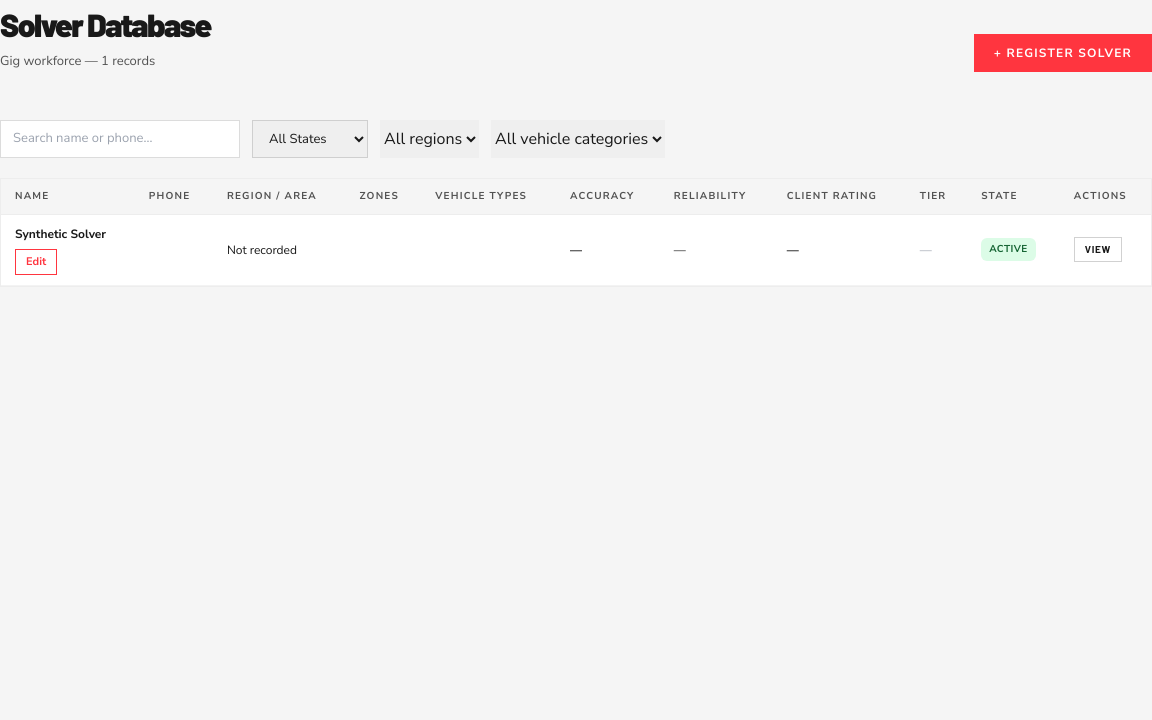
it: edit errors remain visible and HR can select Active without legacy verification
Later steps or results of the test are not shown.
Click the button with test id "edit-solver-one" at x=36, y=262, box [15,248,57,275]
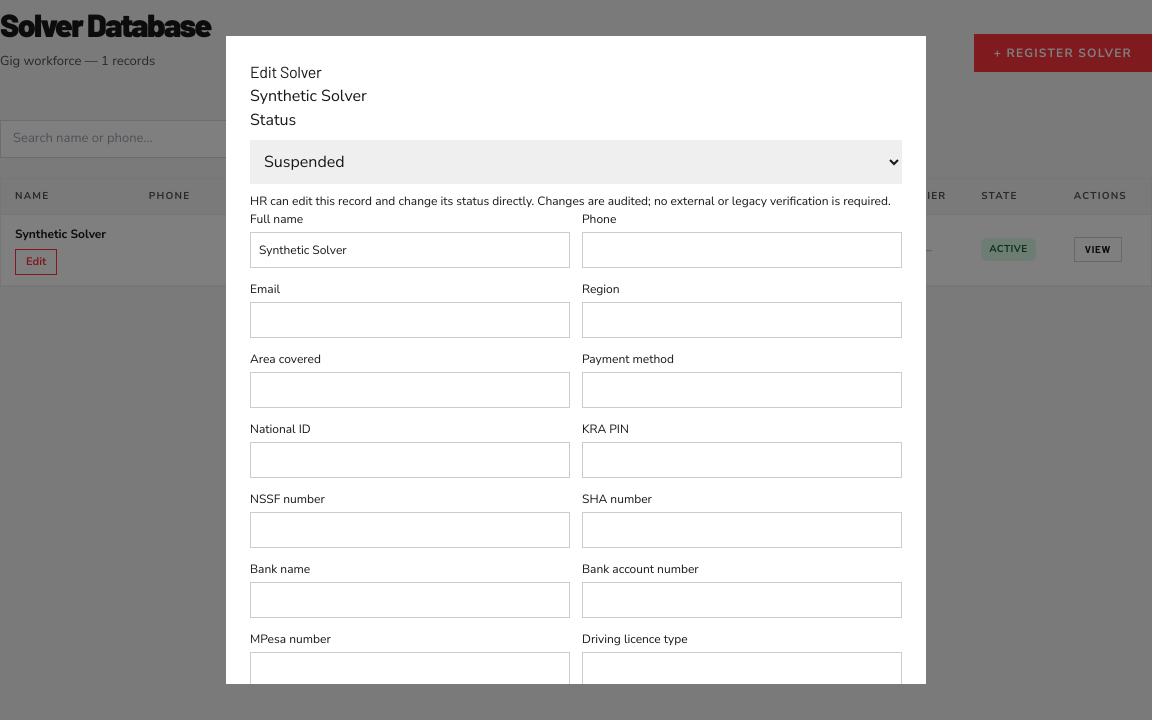
Select "Suspended" in the dropdown with id "solver-status" at x=576, y=162, box [250,140,902,184]
Select "Suspended" in the dropdown with id "solver-status" at x=576, y=162, box [250,140,902,184]
(page scrolled)
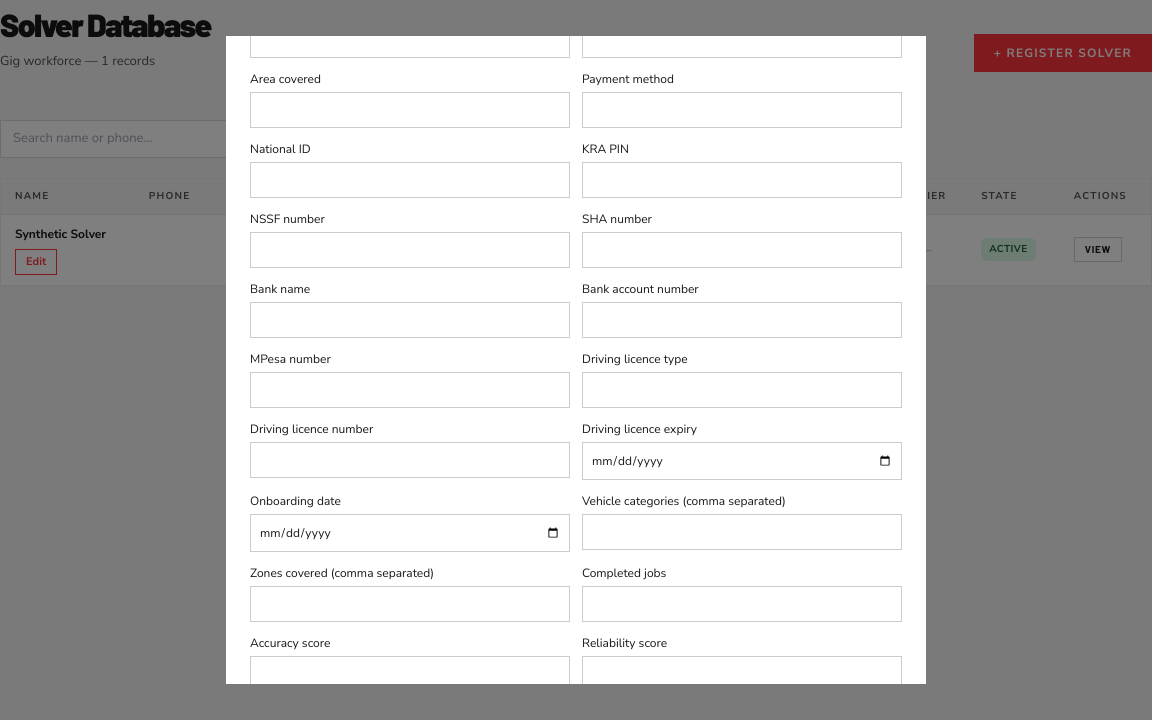
Submit the form
(page scrolled)
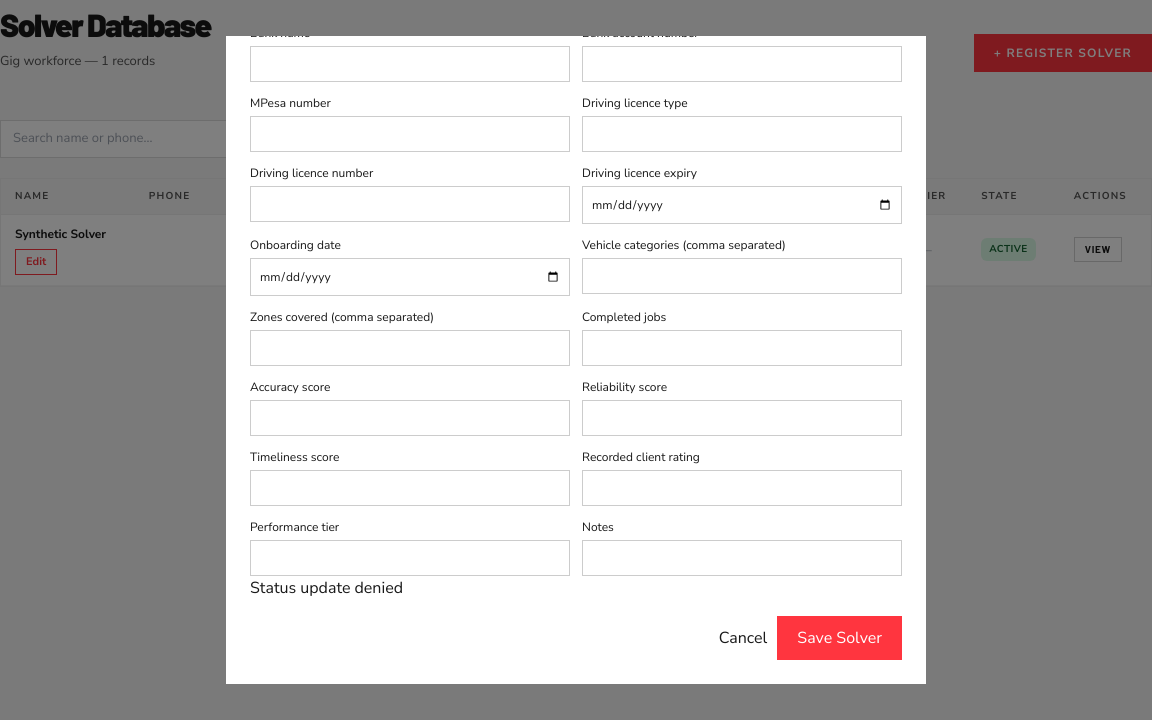
Expected: the dialog is shown, [226,36,926,684]
Expected: the message "Status update denied" is shown, [250,577,403,599]
